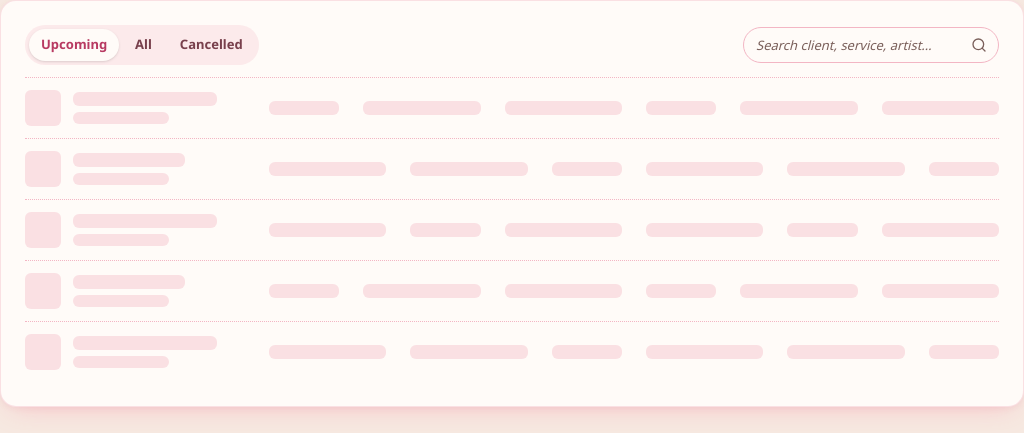
it: BookingsTable › has no client page for a walk-in
Type "walk" into the search field named "Search bookings" at (871, 45), box [743,27,999,63]
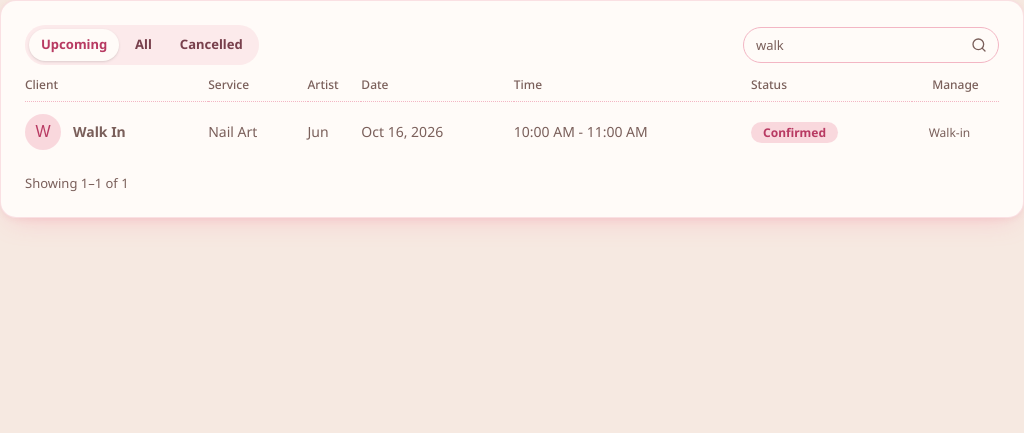
Check: the text "Walk-in" is shown, box [929,124,970,140]
